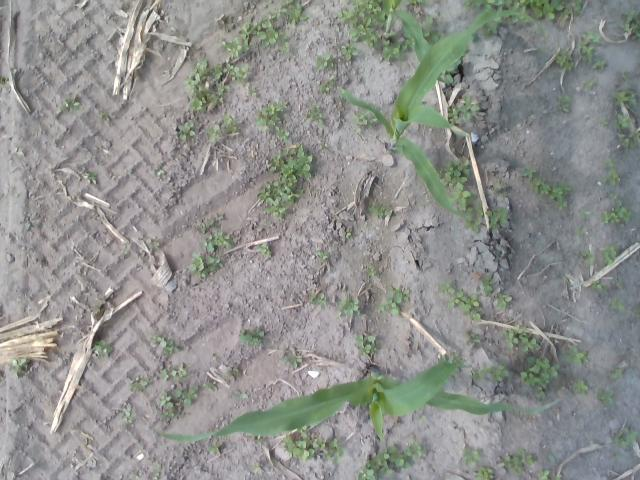Maize: (338, 8, 547, 217), (112, 361, 562, 442), (378, 0, 409, 39)
Weeds: (338, 0, 444, 59), (256, 142, 314, 220), (462, 0, 582, 35), (440, 156, 484, 232), (184, 61, 250, 111), (358, 440, 423, 480), (285, 426, 345, 464), (156, 386, 198, 420), (254, 102, 290, 140), (521, 356, 560, 388), (448, 289, 481, 322), (496, 447, 534, 474), (448, 96, 480, 128), (504, 325, 541, 352), (257, 13, 288, 45), (530, 178, 570, 202), (188, 252, 222, 278), (147, 332, 180, 356), (472, 362, 508, 382), (602, 201, 630, 226), (202, 229, 232, 251), (621, 10, 640, 40), (238, 327, 266, 347), (338, 295, 362, 318), (486, 207, 510, 230), (562, 346, 588, 366), (159, 363, 187, 381), (240, 23, 258, 50), (202, 213, 224, 234), (475, 275, 496, 297), (388, 284, 410, 304), (356, 334, 376, 356), (614, 428, 638, 446), (282, 348, 302, 369), (612, 91, 638, 107), (378, 298, 401, 316), (222, 38, 241, 59), (462, 448, 483, 467), (130, 376, 154, 392), (555, 50, 574, 70), (94, 340, 114, 359), (316, 53, 337, 71), (368, 202, 391, 218), (178, 119, 195, 140), (220, 114, 238, 133), (288, 8, 308, 25), (613, 114, 633, 130), (602, 246, 618, 265), (120, 402, 134, 423), (572, 379, 589, 396), (342, 43, 358, 61), (307, 104, 322, 123), (12, 358, 26, 378), (224, 366, 240, 383), (597, 390, 614, 406), (436, 281, 456, 294), (310, 292, 326, 308), (492, 182, 508, 198), (495, 293, 512, 308), (205, 126, 220, 142), (354, 110, 368, 126), (62, 100, 80, 112), (272, 5, 288, 18), (478, 467, 494, 480), (609, 170, 621, 186), (583, 250, 595, 266), (581, 45, 592, 62), (255, 244, 270, 256), (582, 32, 600, 42), (602, 158, 618, 169), (557, 95, 569, 109), (84, 172, 98, 184), (466, 332, 480, 344), (521, 166, 535, 178), (592, 59, 607, 70), (252, 461, 264, 474), (612, 296, 624, 309), (620, 138, 635, 148), (611, 368, 623, 380), (146, 238, 160, 248), (452, 354, 466, 364), (207, 444, 221, 454), (583, 79, 596, 89), (554, 201, 568, 210), (122, 244, 130, 259), (535, 386, 545, 398), (278, 42, 290, 52), (592, 280, 604, 290), (286, 0, 300, 8), (246, 85, 256, 96), (235, 390, 248, 398), (538, 470, 548, 480), (317, 252, 329, 260), (154, 464, 162, 476), (324, 75, 334, 84), (320, 84, 330, 92), (204, 382, 214, 390), (100, 112, 110, 120), (582, 210, 590, 220), (575, 228, 586, 234), (418, 412, 426, 420), (344, 229, 351, 238), (617, 278, 624, 287), (612, 454, 622, 460), (600, 177, 608, 184), (548, 454, 556, 461), (368, 270, 377, 276), (0, 76, 9, 82), (601, 119, 608, 126), (157, 168, 165, 174), (633, 133, 640, 139), (634, 307, 640, 314), (610, 194, 618, 199), (370, 118, 378, 123), (125, 169, 132, 174), (320, 142, 327, 147), (132, 471, 138, 476), (213, 356, 216, 360), (369, 266, 372, 269)
